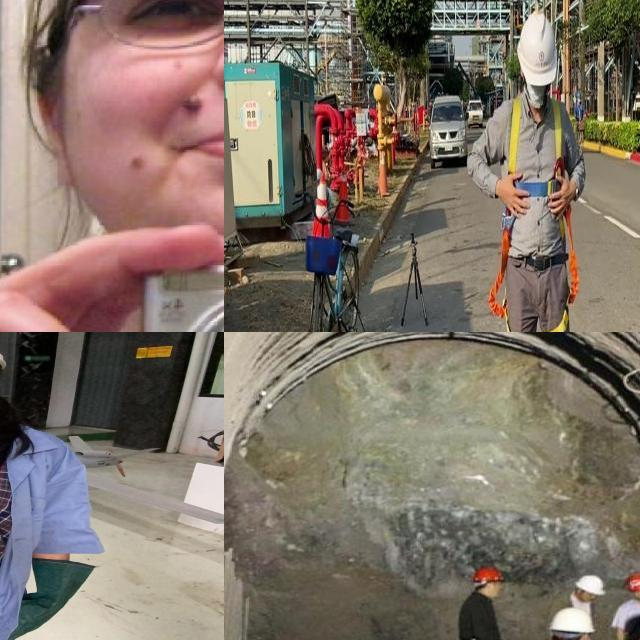Harness: (508, 97, 567, 198), (549, 203, 580, 332), (487, 229, 510, 332)
face_nomask: (117, 0, 224, 199), (582, 590, 598, 602), (629, 586, 640, 600)
head_helmet: (547, 606, 597, 636), (572, 572, 608, 597), (470, 566, 505, 583), (620, 569, 640, 595)
person: (0, 332, 123, 640), (449, 563, 510, 640), (614, 568, 640, 640)
